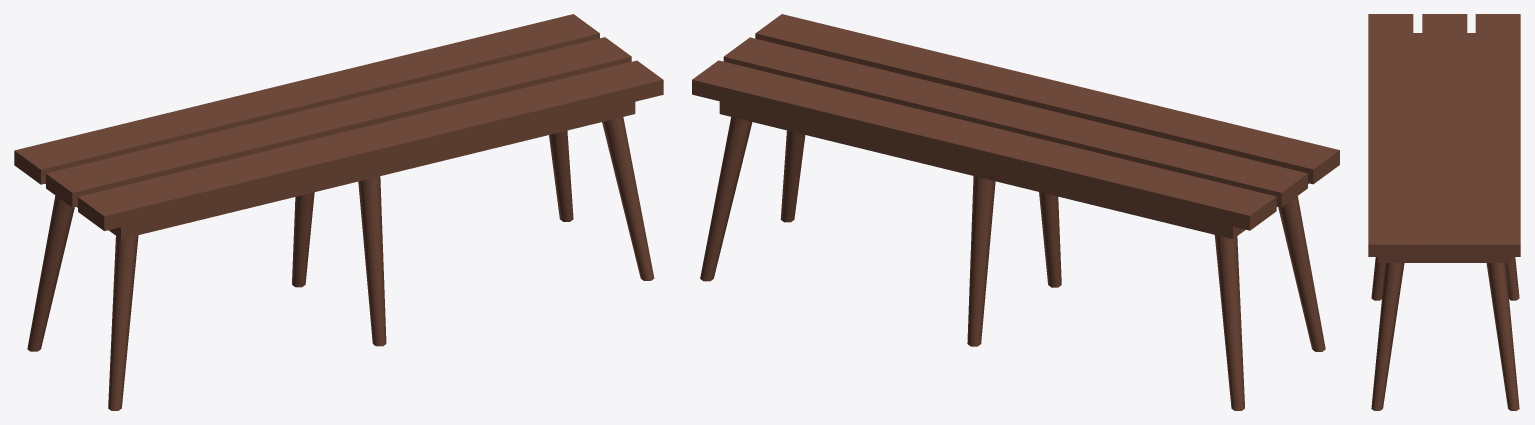
The model's file is Bench_01.fbx.
3 views of the same model, side by side, from view 1: azimuth 30°, elevation 25°; view 2: azimuth 150°, elevation 25°; view 3: azimuth 270°, elevation 25° (orthographic). The views are drawn at different scales.
Visible parts, largest first — view 1: Bench_01; view 2: Bench_01; view 3: Bench_01.
Part boxes in pixels (x1=…): Bench_01: x1=14, y1=14, x2=663, y2=410; Bench_01: x1=692, y1=14, x2=1339, y2=410; Bench_01: x1=1368, y1=14, x2=1520, y2=410.
Bounding box in the file's own units: 1.46 × 0.4976 × 0.4065.
